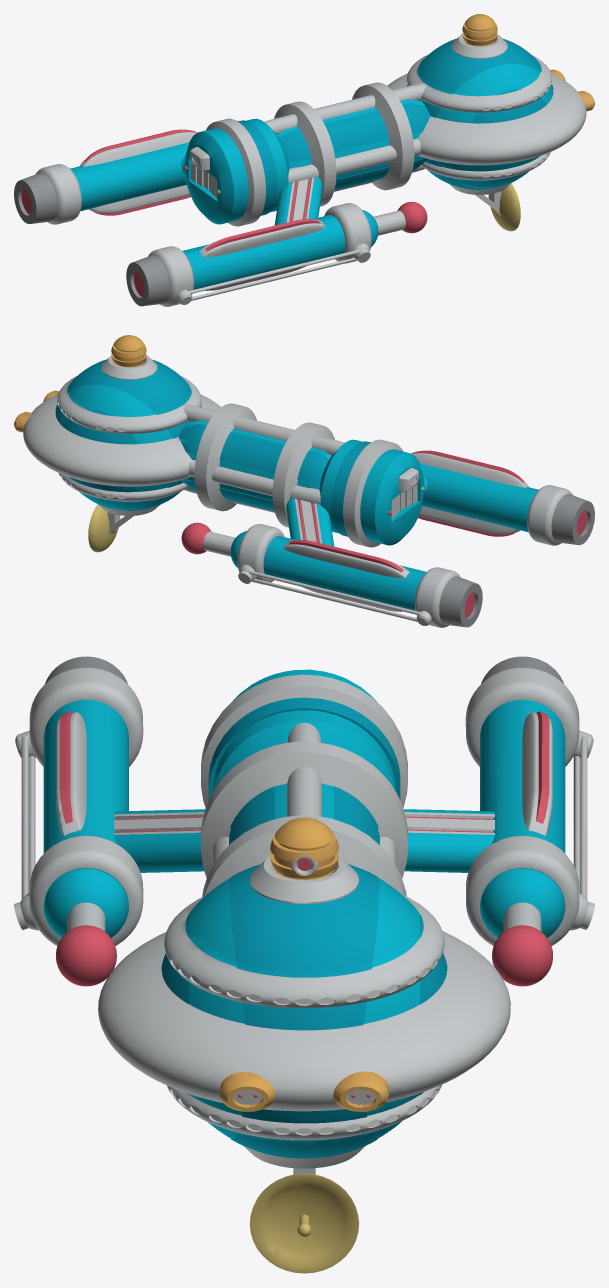
The model's file is ear-saturn.glb.
3 renders of one model, top to bottom at view 1: azimuth 30°, elevation 25°; view 2: azimuth 150°, elevation 25°; view 3: azimuth 270°, elevation 25°, orthographic. The views are drawn at different scales.
Visible parts, largest first — view 1: Saturn current hull - authored COLOR_0 regions; view 2: Saturn current hull - authored COLOR_0 regions; view 3: Saturn current hull - authored COLOR_0 regions.
Part boxes in pixels (<box>): Saturn current hull - authored COLOR_0 regions: <box>14,14,594,306</box>; Saturn current hull - authored COLOR_0 regions: <box>14,335,594,627</box>; Saturn current hull - authored COLOR_0 regions: <box>14,656,594,1273</box>.
Size of the model in its own units: 6.02 by 2.57 by 3.16.
